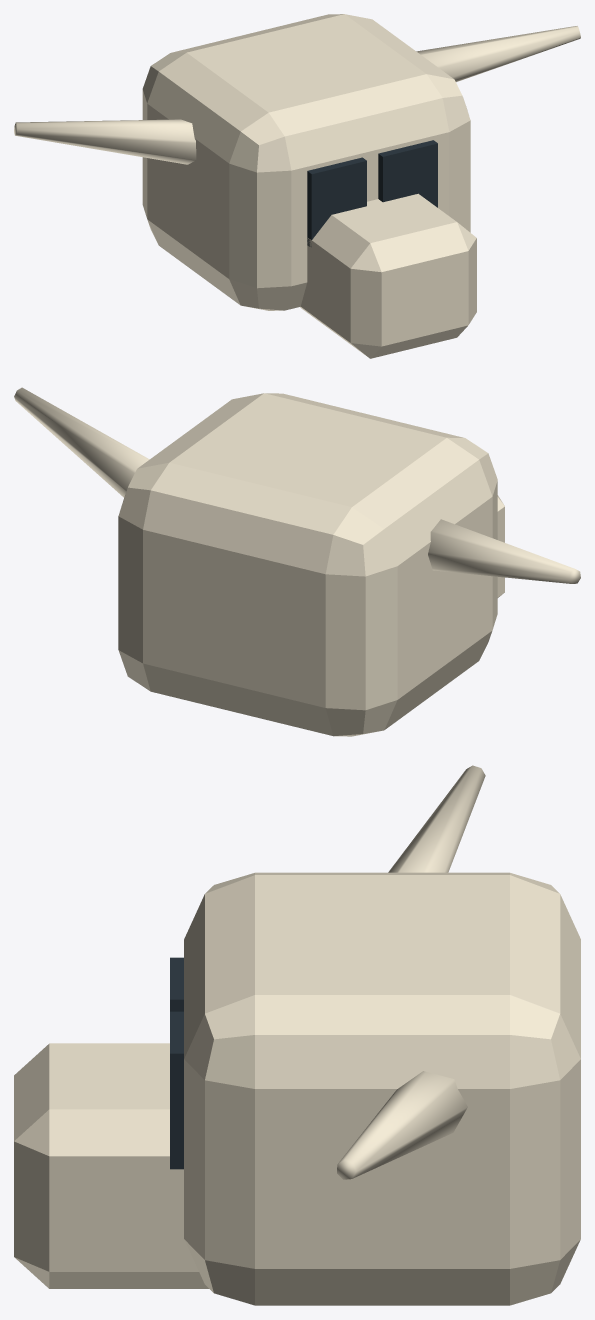
Rendered from hd_skull.gltf.
3 views of the same model, one above another, from view 1: azimuth 30°, elevation 25°; view 2: azimuth 150°, elevation 25°; view 3: azimuth 270°, elevation 25° (orthographic). The views are drawn at different scales.
Parts seen in each view (by area): view 1: cranium, snout, horn-1, horn1, eye-0.09, eye0.09; view 2: cranium, horn-1, horn1, snout; view 3: cranium, snout, horn1, horn-1, eye0.09, eye-0.09.
Boxes of the visible parts, x1,y1,x2,y2 form: cranium: (142,14,470,310); snout: (300,193,476,358); horn-1: (14,119,196,164); horn1: (416,26,580,82); eye-0.09: (307,157,366,246); eye0.09: (378,140,437,207); cranium: (118,393,497,736); horn-1: (428,519,580,583); horn1: (14,387,149,497); snout: (497,495,504,597); cranium: (184,872,580,1305); snout: (14,1043,208,1288); horn1: (337,1071,467,1179); horn-1: (388,765,485,872); eye0.09: (170,1011,183,1169); eye-0.09: (170,957,183,1011).
Size of the model in its own units: 1.33 by 0.5 by 0.8.
